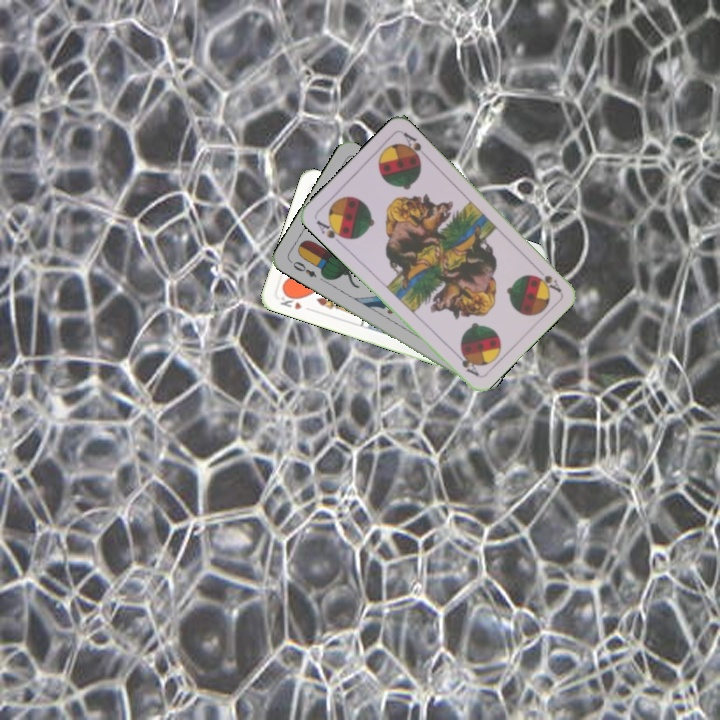EO: (286, 257, 319, 280)
HK: (276, 289, 304, 312)
SA: (312, 216, 349, 247), (531, 262, 564, 295)
